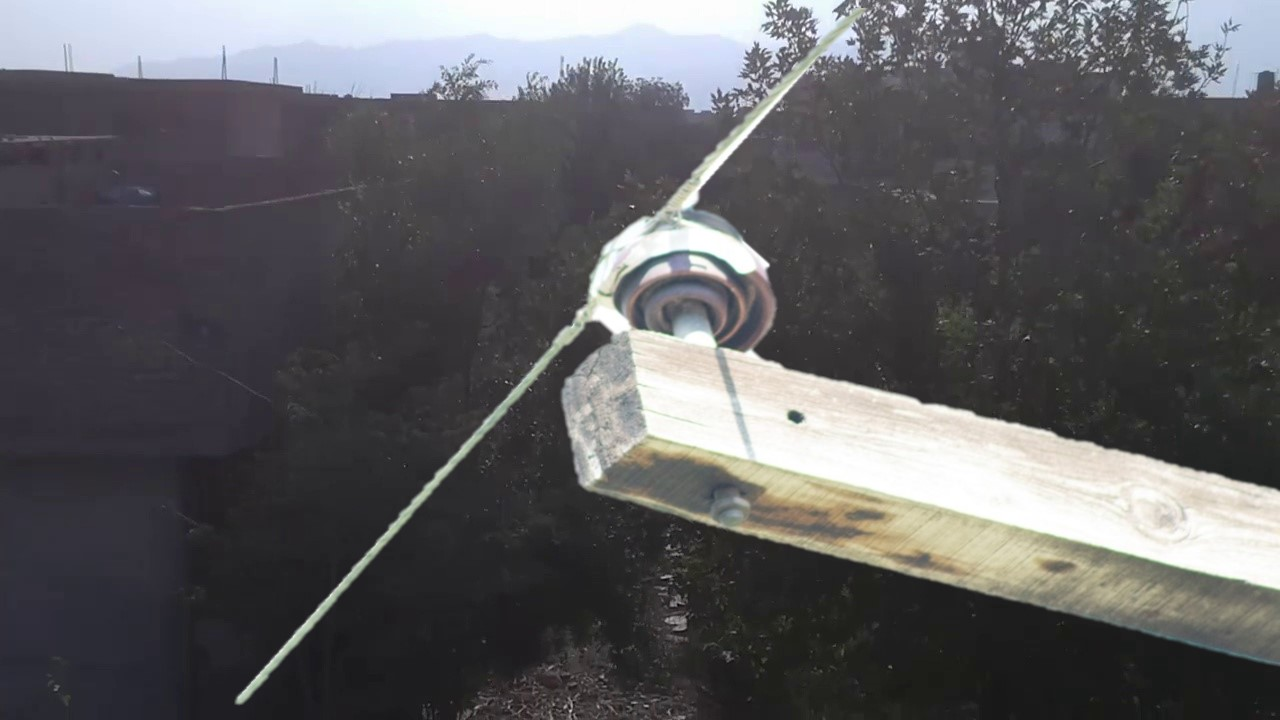defect_pin: (578, 198, 783, 355)
